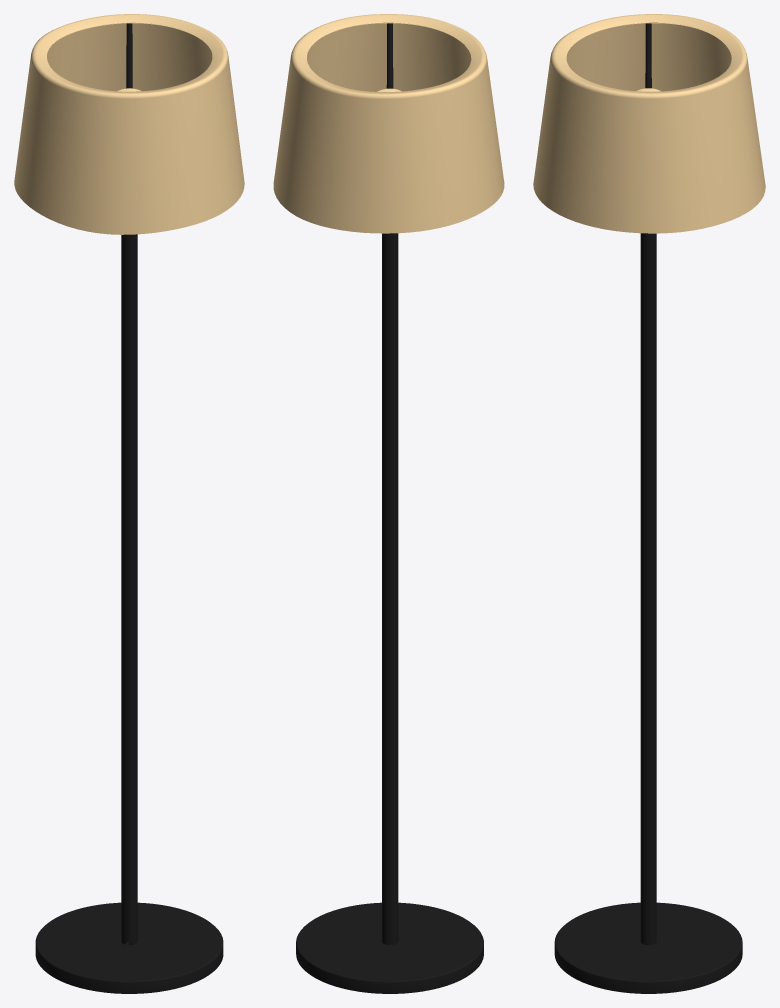
The model's file is Floor_Lamp.glb.
The picture shows the model from 3 angles, left to right: view 1: azimuth 30°, elevation 25°; view 2: azimuth 150°, elevation 25°; view 3: azimuth 270°, elevation 25°; orthographic projection.
Parts seen in each view (by area): view 1: FloorLamp_Cover, FloorLamp_Stem; view 2: FloorLamp_Cover, FloorLamp_Stem; view 3: FloorLamp_Cover, FloorLamp_Stem.
Part boxes in pixels (x1=…): FloorLamp_Cover: x1=14, y1=14, x2=244, y2=234; FloorLamp_Stem: x1=35, y1=23, x2=223, y2=993; FloorLamp_Cover: x1=273, y1=14, x2=504, y2=233; FloorLamp_Stem: x1=296, y1=23, x2=483, y2=993; FloorLamp_Cover: x1=533, y1=14, x2=765, y2=233; FloorLamp_Stem: x1=554, y1=23, x2=742, y2=993.
Size of the model in its own units: 0.3584 by 1.55 by 0.3623.
